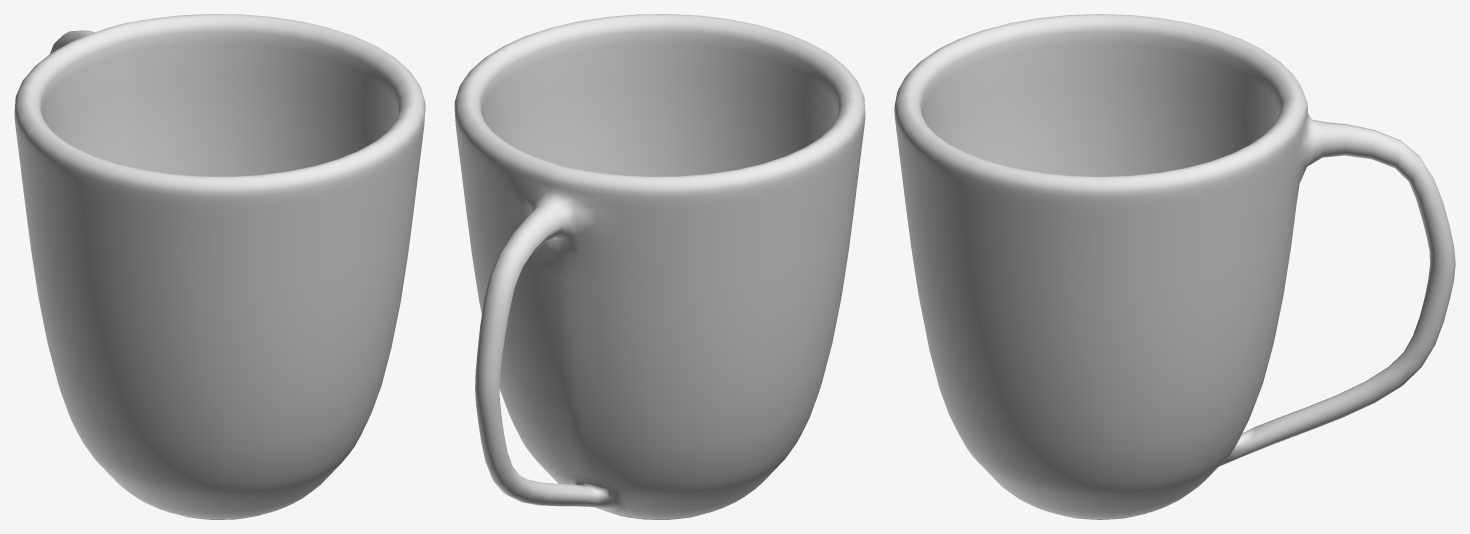
Rendered from Mug3Vol1.fbx.
The picture shows the model from 3 angles, left to right: view 1: azimuth 30°, elevation 25°; view 2: azimuth 150°, elevation 25°; view 3: azimuth 270°, elevation 25°; orthographic projection.
Visible parts, largest first — view 1: Mug3Vol1; view 2: Mug3Vol1; view 3: Mug3Vol1.
Boxes of the visible parts, bbox=[...] form: Mug3Vol1: bbox=[14, 14, 425, 519]; Mug3Vol1: bbox=[454, 14, 865, 519]; Mug3Vol1: bbox=[894, 14, 1455, 519].
Size of the model in its own units: 29.92 by 31.48 by 40.82.
